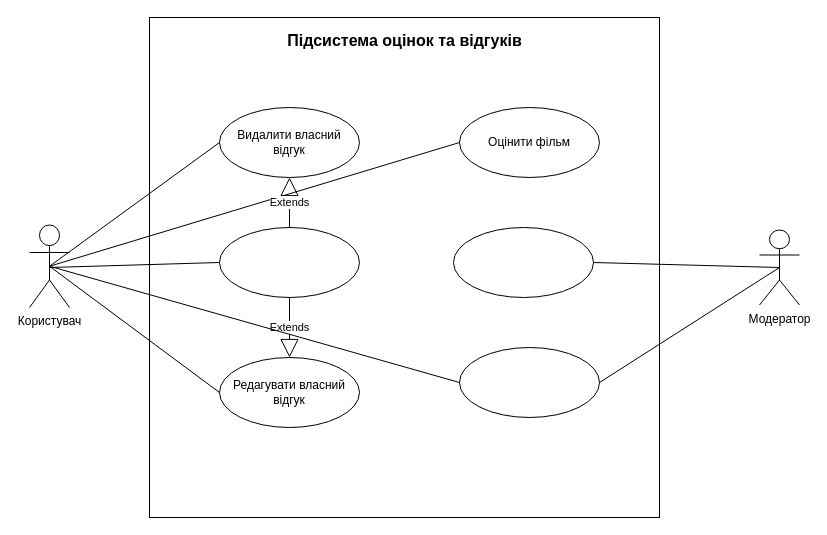
The diagram is 827 pixels wide and 535 high, and some of its shapes have lost their labels. The centre of each missing label's shape, as x and y in pixels:
"Видалити неприйнятний відгук" goes at [523,262].
"Написати відгук" goes at [289,262].
"Перегляд відгуків" goes at [529,382].
